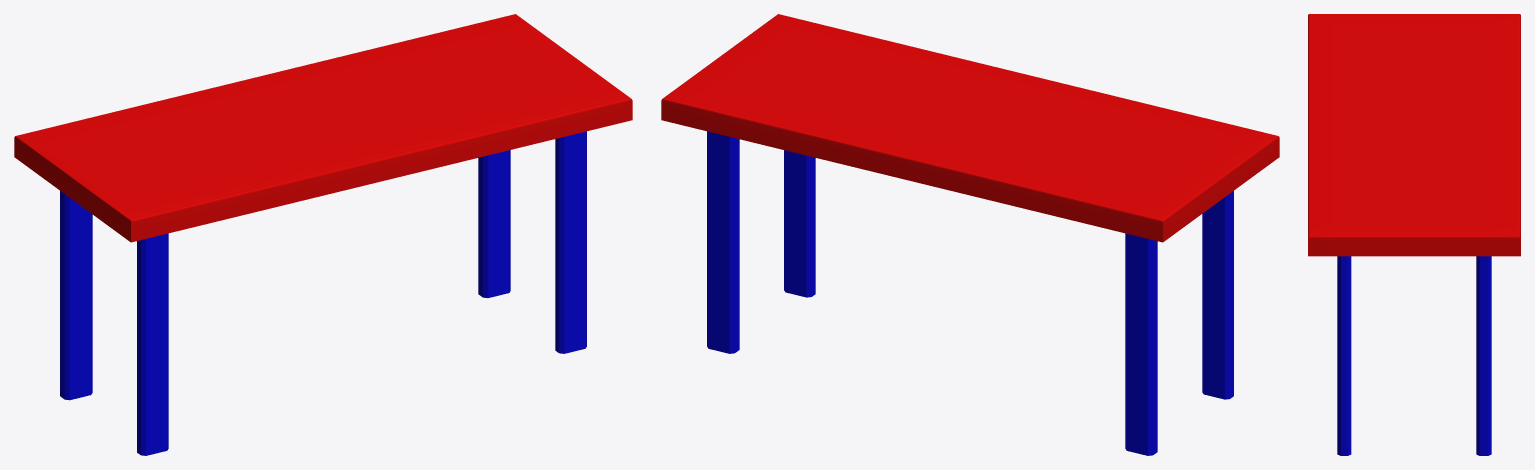
The model's file is Desk.fbx.
3 views of the same model, side by side, from view 1: azimuth 30°, elevation 25°; view 2: azimuth 150°, elevation 25°; view 3: azimuth 270°, elevation 25° (orthographic). The views are drawn at different scales.
Visible parts, largest first — view 1: pCube1; view 2: pCube1; view 3: pCube1.
Boxes of the visible parts, box(x1,y1,x2,y2) form: pCube1: box(14, 14, 632, 455); pCube1: box(661, 14, 1279, 455); pCube1: box(1308, 14, 1520, 455).
Size of the model in its own units: 180 by 87.5 by 72.7.
